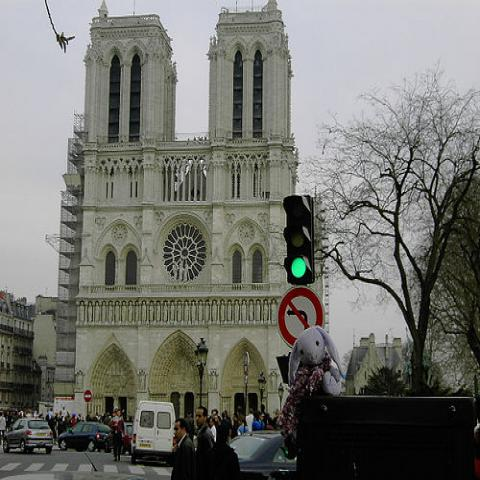car: (132, 401, 176, 466), (228, 429, 294, 471), (0, 414, 54, 454), (58, 421, 112, 453), (121, 421, 133, 455)
